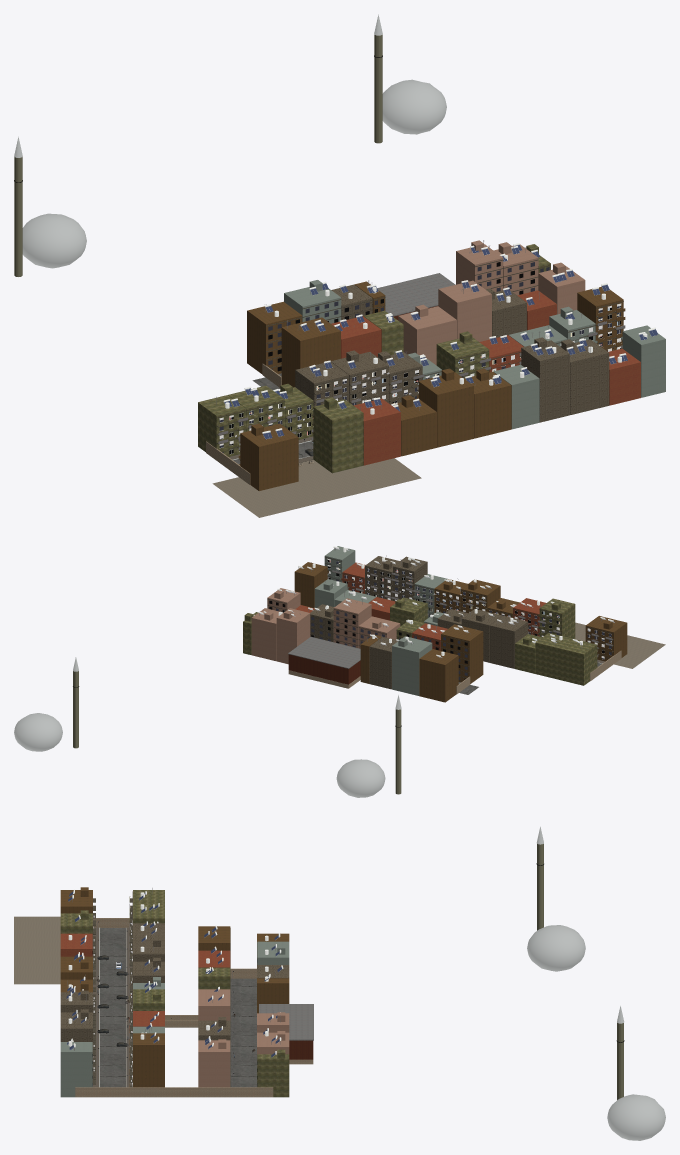
File: sokak.glb
3 views of the same model, one above another, from view 1: azimuth 30°, elevation 25°; view 2: azimuth 150°, elevation 25°; view 3: azimuth 270°, elevation 25° (orthographic). The views are drawn at different scales.
Visible parts, largest first — view 1: m_yellow_plaster_02, m_white_plaster_rough_02, m_worn_plaster_wall, m_painted_plaster_wall, m_curb, m_plaster_green, m_red_plaster_weathered, m_tire, m_dry_ground_01, m_slab, m_worn_corrugated_iron, m_brick_wall_02; view 2: m_yellow_plaster_02, m_white_plaster_rough_02, m_worn_plaster_wall, m_painted_plaster_wall, m_plaster_green, m_curb, m_tire, m_red_plaster_weathered, m_slab, m_worn_corrugated_iron, m_rusty_corrugated_iron, m_dry_ground_01 (+1 smaller); view 3: m_asphalt_02, m_white_plaster_rough_02, m_yellow_plaster_02, m_tire, m_worn_plaster_wall, m_painted_plaster_wall, m_brick_wall_02, m_dry_ground_01, m_curb, m_plaster_green, m_red_plaster_weathered, m_concrete_pavers (+3 smaller).
Part boxes in pixels (x1,y1,x2,y2): m_yellow_plaster_02: (238, 281, 625, 490); m_white_plaster_rough_02: (14, 34, 550, 473); m_worn_plaster_wall: (295, 284, 609, 422); m_painted_plaster_wall: (398, 240, 585, 365); m_curb: (215, 240, 657, 462); m_plaster_green: (284, 280, 665, 429); m_red_plaster_weathered: (331, 290, 640, 465); m_tire: (14, 14, 446, 268); m_dry_ground_01: (212, 458, 421, 517); m_slab: (216, 259, 625, 460); m_worn_corrugated_iron: (377, 273, 455, 316); m_brick_wall_02: (206, 363, 281, 484); m_yellow_plaster_02: (294, 562, 627, 702); m_white_plaster_rough_02: (73, 597, 598, 794); m_worn_plaster_wall: (310, 556, 528, 689); m_painted_plaster_wall: (251, 588, 400, 664); m_plaster_green: (314, 546, 447, 695); m_curb: (253, 546, 614, 679); m_tire: (14, 657, 401, 797); m_red_plaster_weathered: (295, 562, 546, 650); m_slab: (267, 557, 613, 678); m_worn_corrugated_iron: (288, 637, 360, 668); m_rusty_corrugated_iron: (288, 654, 360, 684); m_dry_ground_01: (575, 622, 665, 668); m_asphalt_02: (100, 928, 256, 1087); m_white_plaster_rough_02: (60, 844, 623, 1099); m_yellow_plaster_02: (60, 887, 289, 1087); m_tire: (116, 826, 665, 1140); m_worn_plaster_wall: (60, 923, 289, 1042); m_painted_plaster_wall: (198, 989, 289, 1087); m_brick_wall_02: (75, 918, 313, 1097); m_dry_ground_01: (14, 916, 60, 984); m_curb: (66, 888, 283, 1087); m_plaster_green: (60, 941, 289, 1097); m_red_plaster_weathered: (60, 933, 230, 1032); m_concrete_pavers: (93, 927, 197, 1087).
Size of the model in its own units: 202 by 50.97 by 244.
39 materials, 39 textured.
